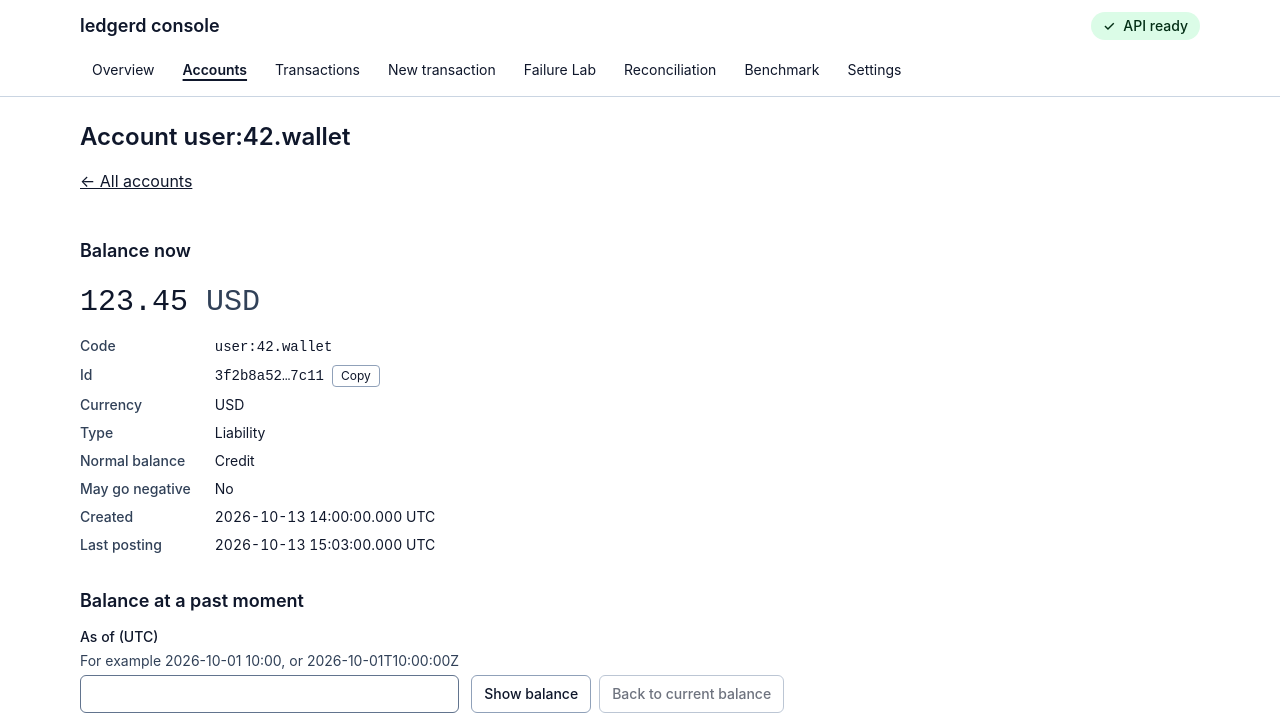
Test: the balance at a past moment (R4.3) › is operated with the keyboard: Enter in the field shows the balance
The width and height of the screenshot is (1280, 716).
expect the heading "Account user:42.wallet" is shown: met, box [80, 121, 350, 153]
expect the element "Balance now" is shown: met, box [80, 240, 625, 553]
Click the field labelled "As of (UTC)" at (270, 694), box [80, 675, 459, 713]
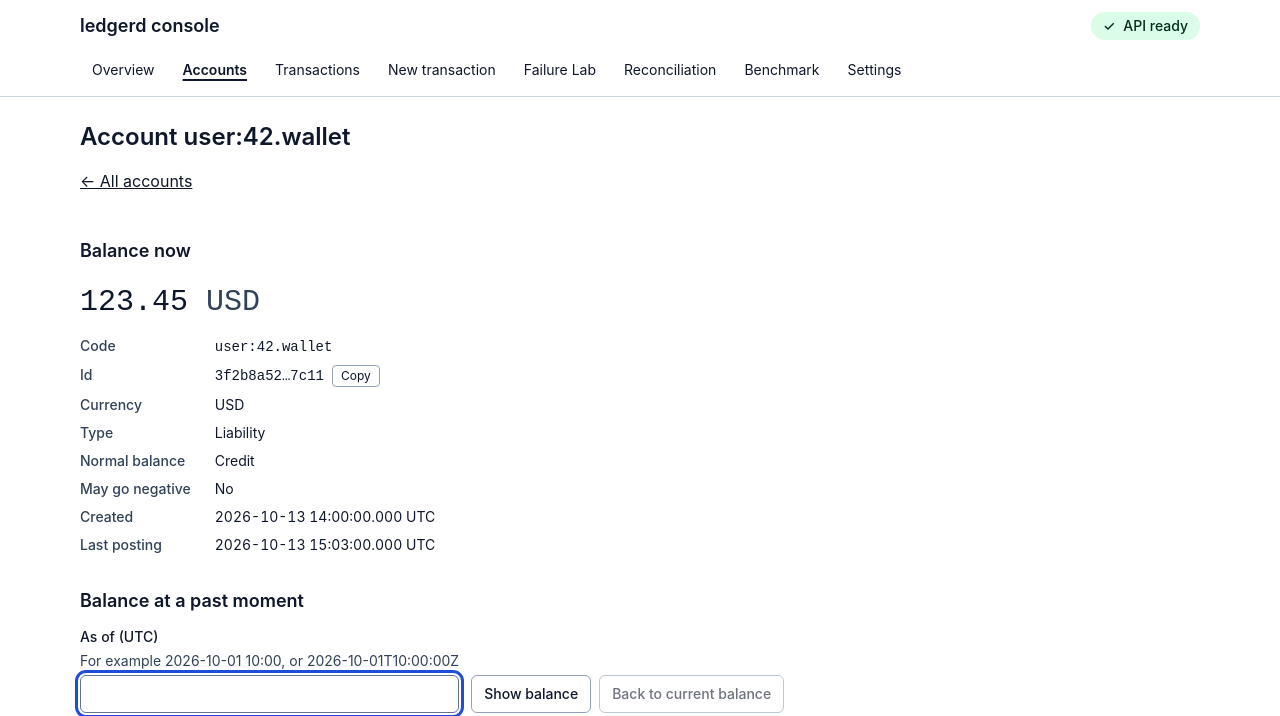
Type keys "2026-10-13 15:02:30{Enter}"
(page scrolled)
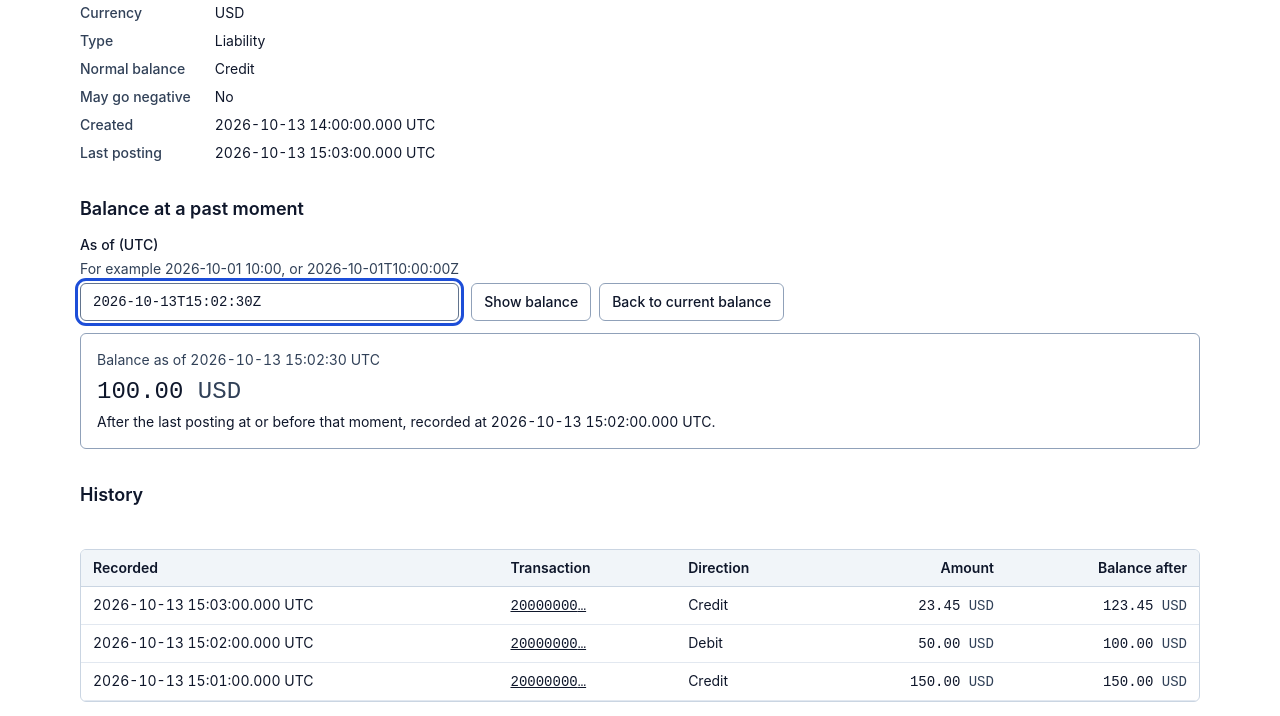
expect the text "Balance as of 2026-10-13 15:02:30 UTC" is shown: met, box [97, 351, 380, 368]
